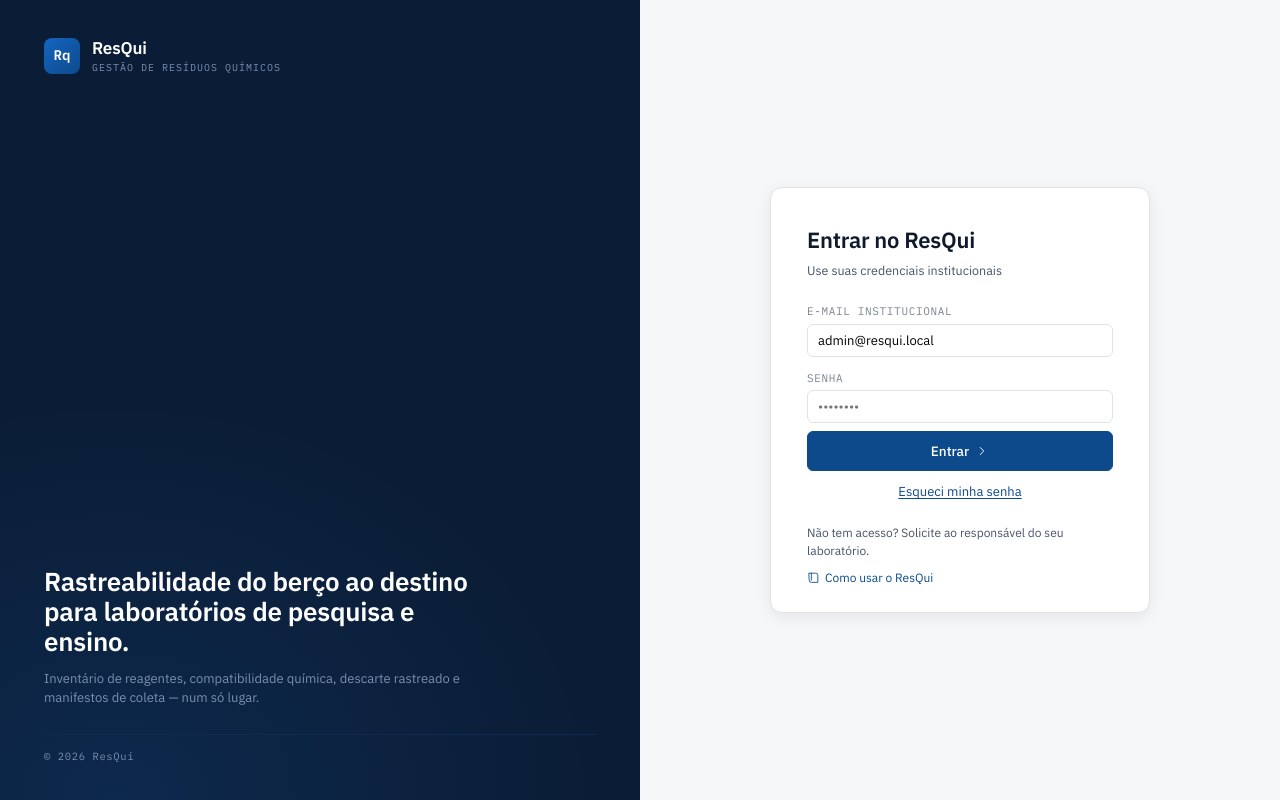
Scenario: LoginScreen — esqueci minha senha › pede o link e responde com a mensagem neutra, que não diz se a conta existe
Step 1. Click the button "Esqueci minha senha" → (960, 493), box [898, 483, 1022, 502]
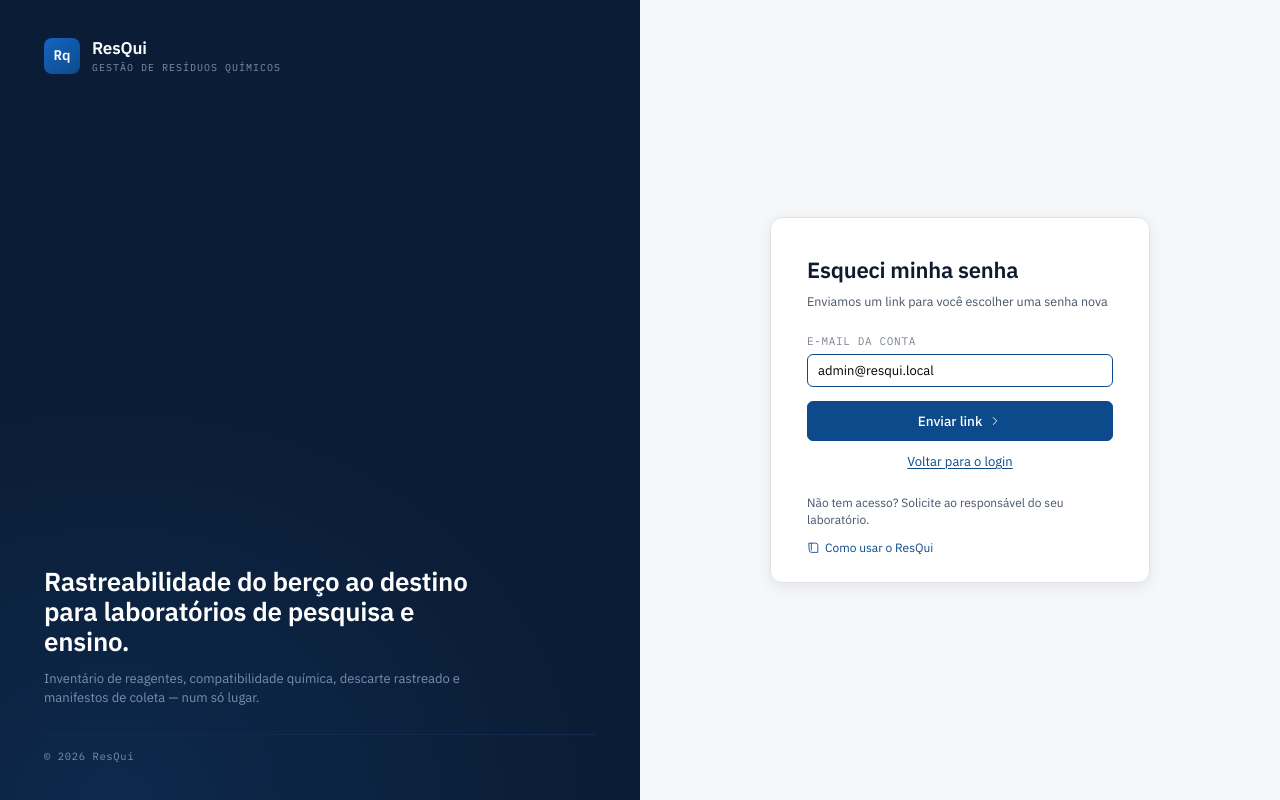
Step 2. Replace the text in the field labelled "E-mail da conta" with "ana@lab.com" → (960, 370), box [807, 354, 1113, 387]
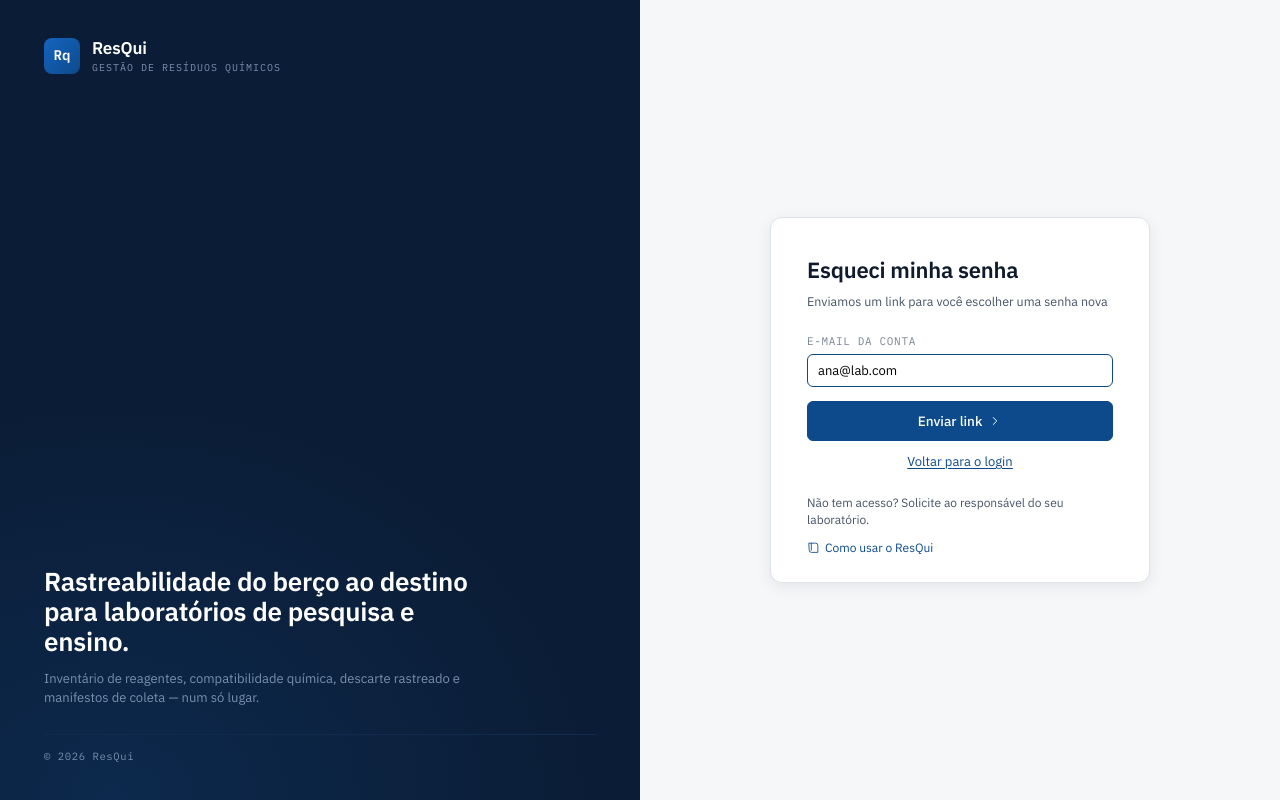
Step 3. Click the button "Enviar link" → (960, 421), box [807, 401, 1113, 441]
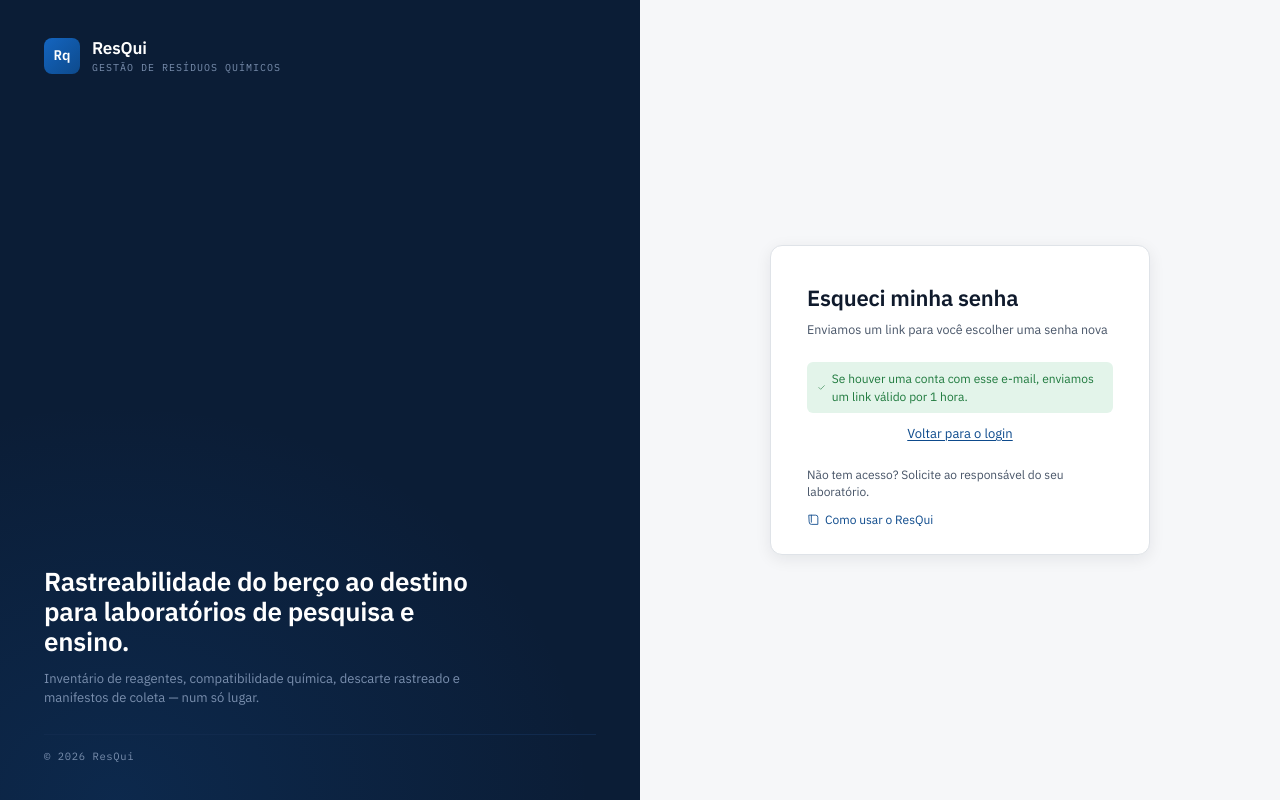
Now the text "Se houver uma conta com esse e-mail, enviamos um link válido por 1 hora." is shown, box [807, 362, 1113, 413]
